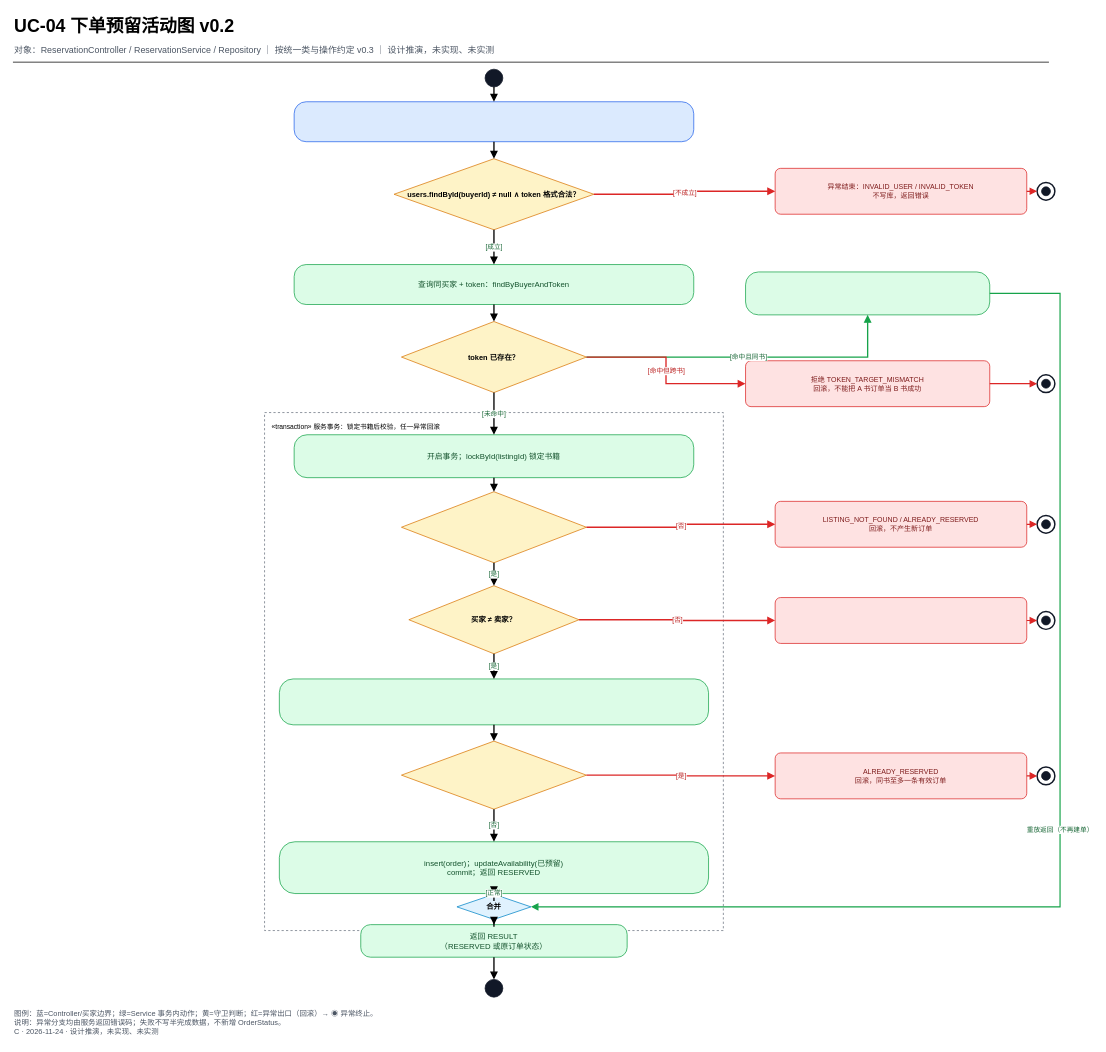
This 1106x1052 diagram has some shape labels left out. Each missing label, with the box of its shape:
SELF_RESERVATION 回滚，禁止预留自己发布的书: (774, 597, 1027, 643)
书存在且可售？: (401, 491, 586, 563)
买家提交 reserveBook(buyerId, listingId, requestToken): (293, 101, 694, 142)
已有有效订单？: (401, 740, 586, 809)
返回原订单当前状态 replayed=true: (745, 271, 990, 315)
锁后复查 token（命中返回原单） 未命中才 countActiveByListing(listingId): (279, 678, 709, 725)
